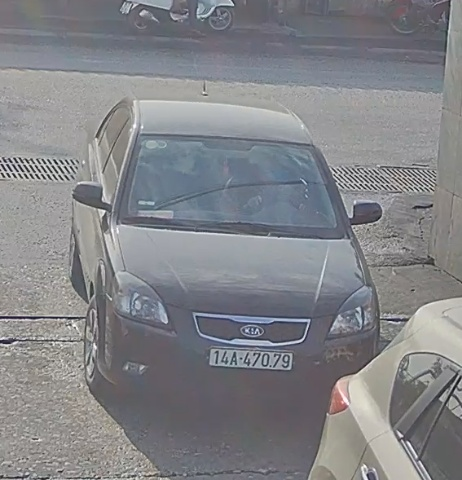vehicle plate: (204, 340, 305, 376)
